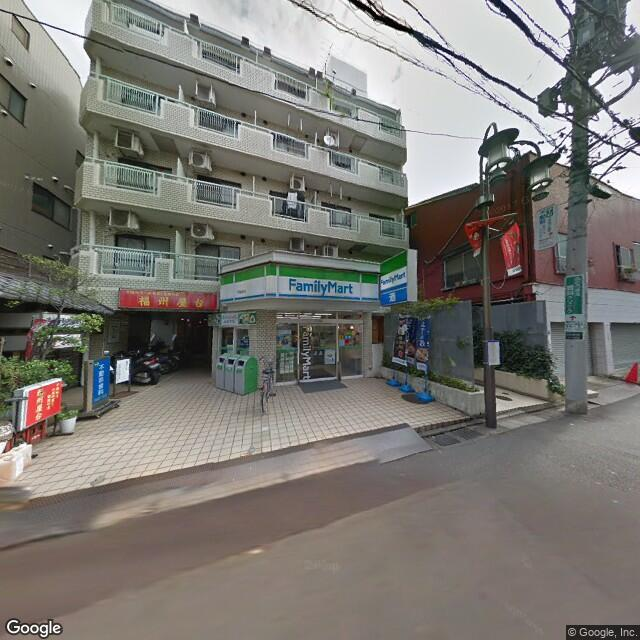family_mart: (216, 258, 380, 310), (378, 246, 413, 306)
